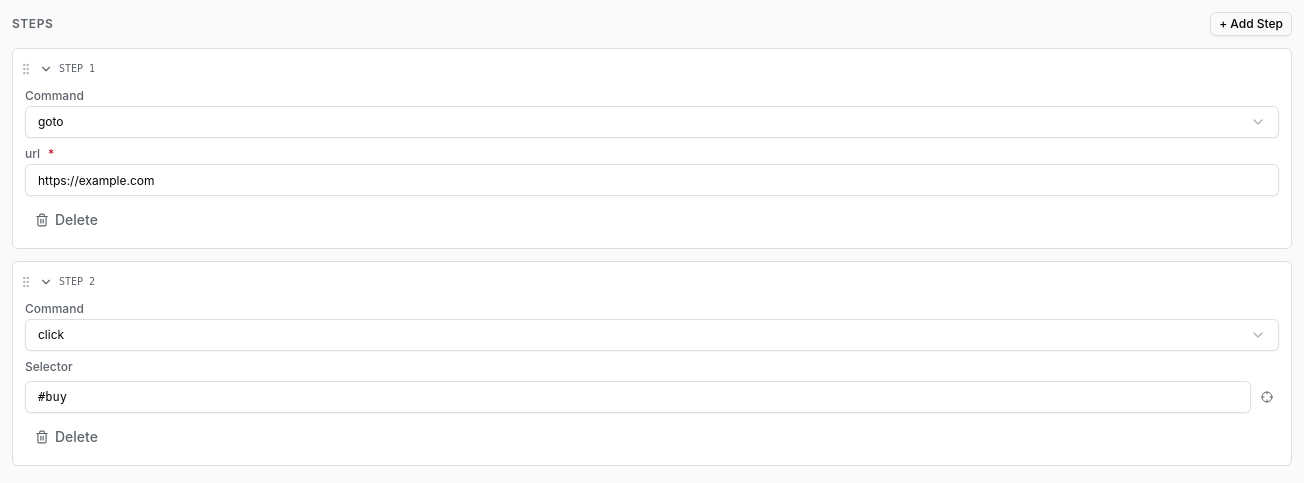
StepBuilder › collapsing › collapses only the step that was clicked
Click the button "STEP 1".
click(74, 68)  # box left=39, top=49, right=1291, bottom=88
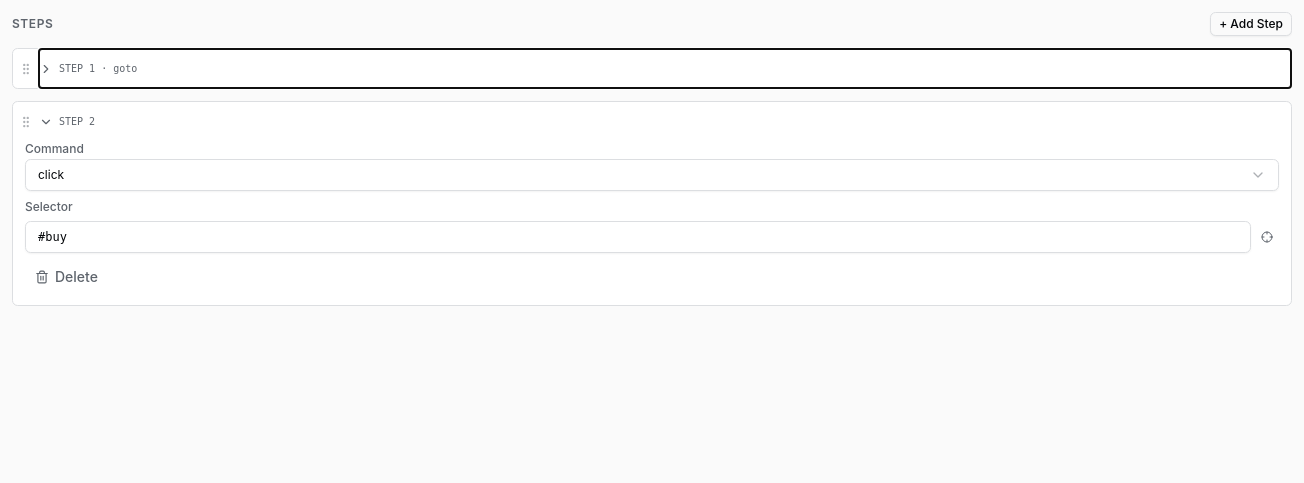
Result: the text "Command" is shown once at left=25, top=141, right=84, bottom=156
